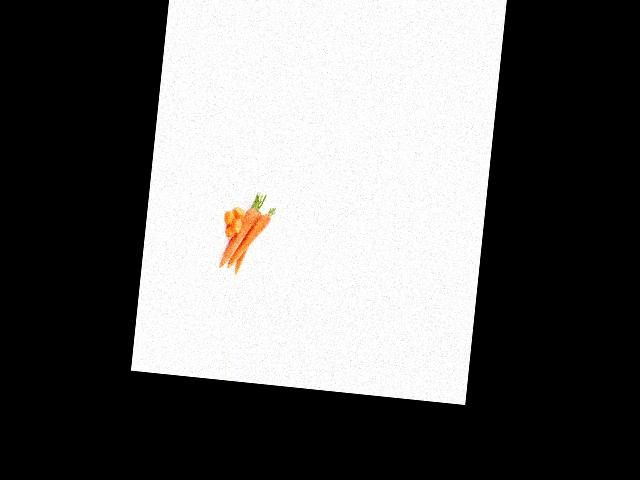carrot: (218, 200, 260, 272)
